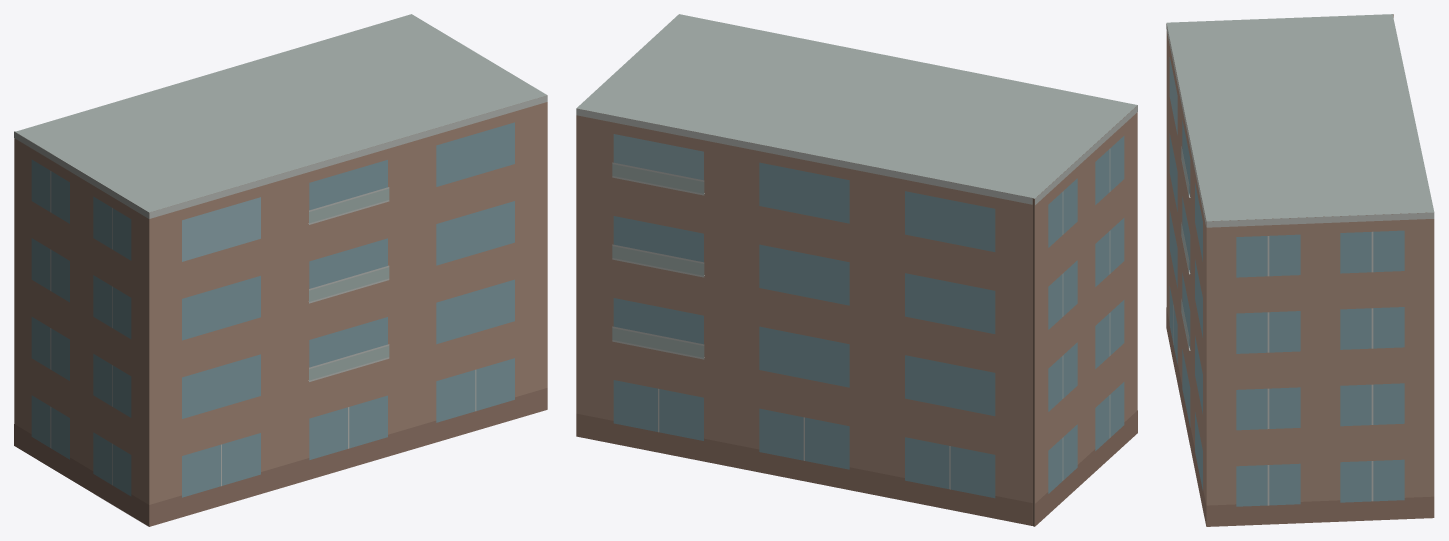
File: survey-upis-32758349.glb
3 renders of one model, left to right at view 1: azimuth 30°, elevation 25°; view 2: azimuth 150°, elevation 25°; view 3: azimuth 270°, elevation 25°, orthographic. The views are drawn at different scales.
Visible parts, largest first — view 1: survey-upis-32758349.tmp; view 2: survey-upis-32758349.tmp; view 3: survey-upis-32758349.tmp.
Boxes of the visible parts, x1,y1,x2,y2 form: survey-upis-32758349.tmp: [14, 14, 547, 526]; survey-upis-32758349.tmp: [576, 14, 1137, 526]; survey-upis-32758349.tmp: [1166, 14, 1434, 526].
Bounding box in the file's own units: 17.04 × 11.7 × 9.31.
